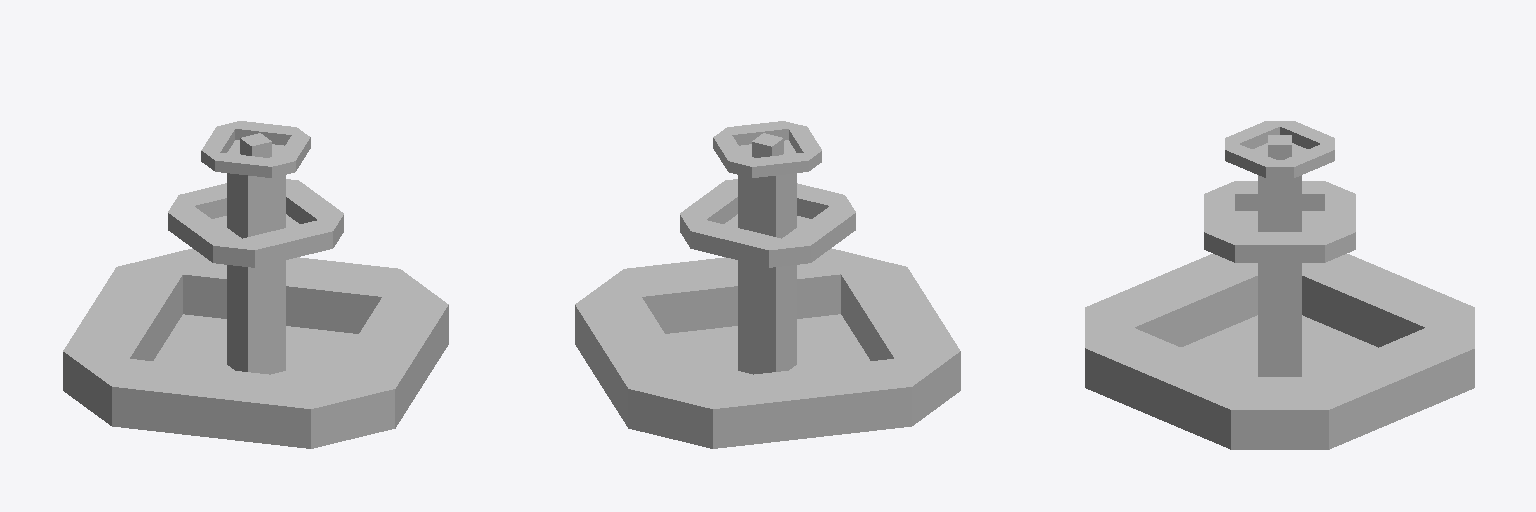
Rendered from fontaine.obj.
3 views of the same model, side by side, from view 1: azimuth 30°, elevation 25°; view 2: azimuth 150°, elevation 25°; view 3: azimuth 270°, elevation 25° (orthographic).
Parts seen in each view (by area): view 1: Cube.001, Cube, Cube.002, Cube.003, Cube.004; view 2: Cube.001, Cube, Cube.002, Cube.003, Cube.004; view 3: Cube.001, Cube.002, Cube, Cube.003, Cube.004.
Boxes of the visible parts, x1,y1,x2,y2 form: Cube.001: [63, 248, 448, 448]; Cube: [227, 173, 285, 374]; Cube.002: [168, 179, 343, 267]; Cube.003: [201, 121, 310, 177]; Cube.004: [240, 133, 271, 157]; Cube.001: [575, 248, 960, 448]; Cube: [738, 173, 796, 374]; Cube.002: [680, 179, 855, 267]; Cube.003: [713, 121, 821, 177]; Cube.004: [752, 133, 783, 157]; Cube.001: [1085, 254, 1474, 449]; Cube.002: [1204, 181, 1355, 262]; Cube: [1258, 175, 1301, 376]; Cube.003: [1225, 121, 1334, 178]; Cube.004: [1268, 135, 1291, 159].
Size of the model in its own units: 16.05 by 10.56 by 16.05.